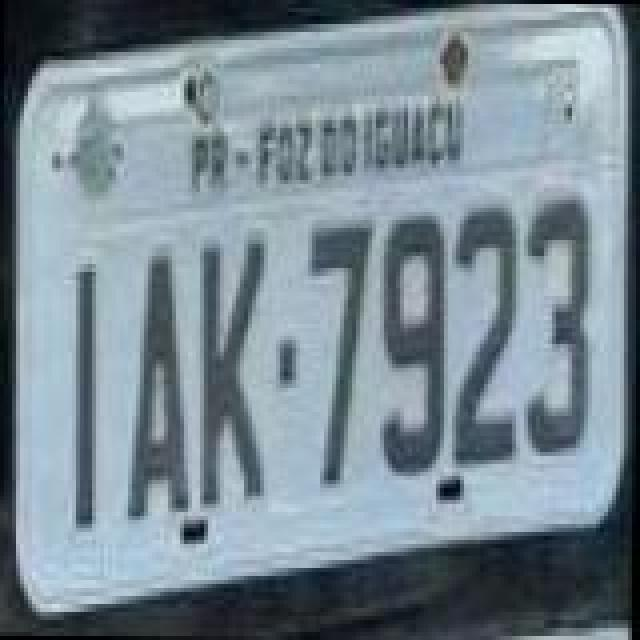1: (70, 258, 98, 534)
2: (450, 204, 522, 464)
3: (522, 194, 594, 454)
7: (304, 222, 372, 490)
9: (378, 216, 450, 476)
A: (126, 252, 194, 528)
K: (196, 236, 272, 512)
